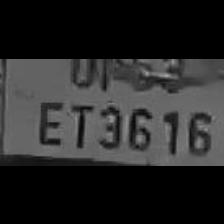1: (155, 104, 181, 156)
3: (92, 99, 122, 149)
6: (180, 106, 214, 156), (123, 102, 155, 152)
E: (33, 94, 65, 148)
T: (64, 97, 92, 149)
U: (62, 58, 98, 90)
